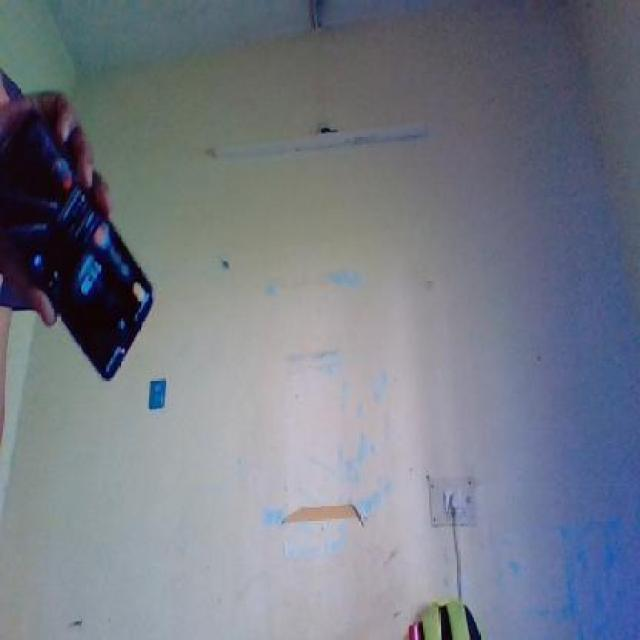Phone: (6, 106, 163, 382)
